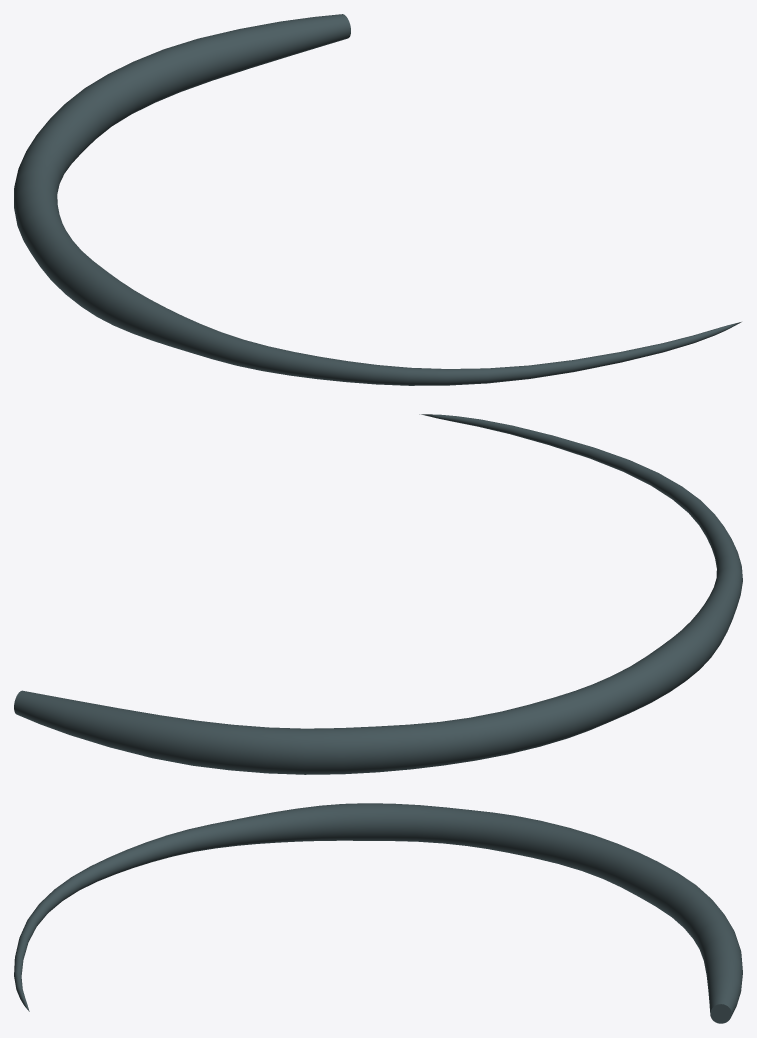
The model's file is Aguja3.glb.
3 views of the same model, one above another, from view 1: azimuth 30°, elevation 25°; view 2: azimuth 150°, elevation 25°; view 3: azimuth 270°, elevation 25° (orthographic). The views are drawn at different scales.
Visible parts, largest first — view 1: Spiral; view 2: Spiral; view 3: Spiral.
Boxes of the visible parts, <box> form: Spiral: <box>14,14,741,385</box>; Spiral: <box>14,414,742,774</box>; Spiral: <box>14,803,742,1023</box>.
Bounding box in the file's own units: 0.0172 × 0.00148 × 0.0266.
